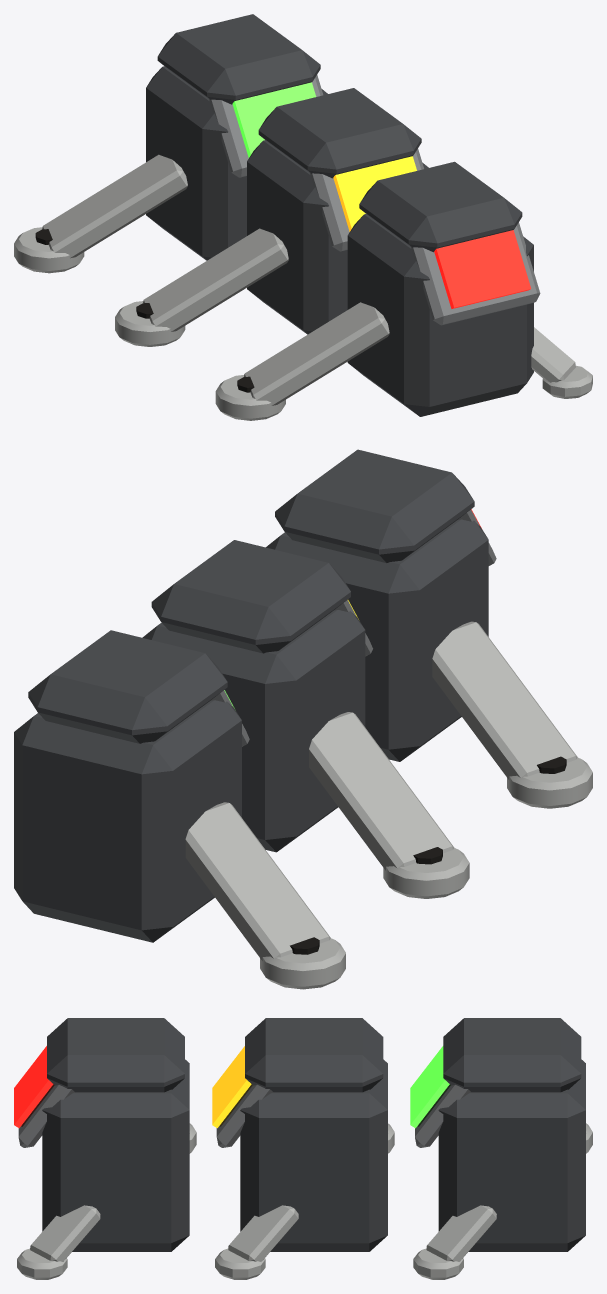
Rendered from rail-signal.glb.
The picture shows the model from 3 angles, top to bottom: view 1: azimuth 30°, elevation 25°; view 2: azimuth 150°, elevation 25°; view 3: azimuth 270°, elevation 25°; orthographic projection. The views are drawn at different scales.
Visible parts, largest first — view 1: body, anim_lit_red, anim_lit_green, anim_lit_yellow; view 2: body; view 3: body, anim_lit_green, anim_lit_yellow, anim_lit_red.
Part boxes in pixels (x1,y1,x2,y2): body: (14,14,592,420); anim_lit_red: (434,230,531,308); anim_lit_green: (232,82,316,157); anim_lit_yellow: (333,156,416,231); body: (14,449,592,989); body: (17,1018,592,1279); anim_lit_green: (410,1046,449,1128); anim_lit_yellow: (212,1046,251,1128); anim_lit_red: (14,1046,53,1128).
Size of the model in its own units: 0.7573 by 0.46 by 1.26.
